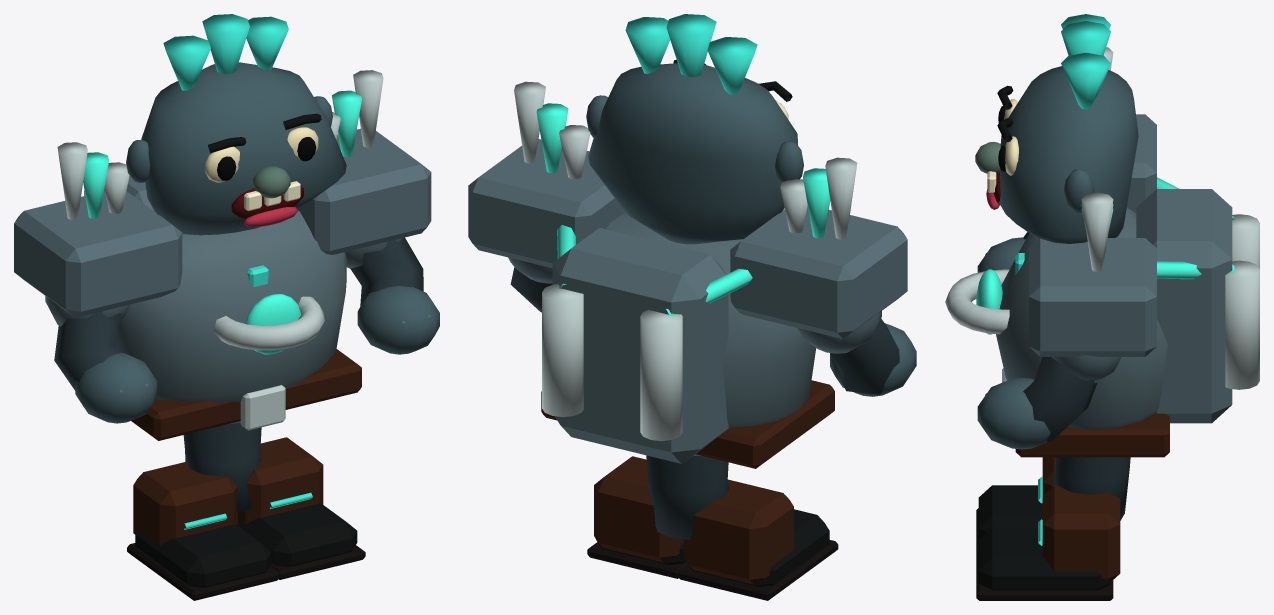
Rendered from overlord.glb.
3 renders of one model, left to right at view 1: azimuth 30°, elevation 25°; view 2: azimuth 150°, elevation 25°; view 3: azimuth 270°, elevation 25°, orthographic. The views are drawn at different scales.
Parts seen in each view (by area): view 1: Arms, Body, Head, LegL, LegR; view 2: Body, Arms, Head, LegL, LegR; view 3: Body, Arms, Head, LegR, LegL.
Boxes of the visible parts, left/top/right/bottom form: Arms: left=14, top=70, right=439, bottom=423; Body: left=84, top=176, right=361, bottom=440; Head: left=126, top=14, right=346, bottom=235; LegL: left=127, top=423, right=279, bottom=600; LegR: left=199, top=427, right=365, bottom=579; Body: left=541, top=212, right=834, bottom=468; Arms: left=468, top=81, right=916, bottom=396; Head: left=586, top=14, right=803, bottom=244; LegL: left=646, top=455, right=838, bottom=600; LegR: left=587, top=456, right=727, bottom=578; Body: left=945, top=177, right=1259, bottom=457; Arms: left=977, top=47, right=1156, bottom=449; Head: left=975, top=14, right=1138, bottom=243; LegR: left=976, top=457, right=1129, bottom=600; LegL: left=976, top=457, right=1130, bottom=551.
Bounding box in the file's own units: 0.94 × 1.27 × 0.688.
1 material, 1 textured.
